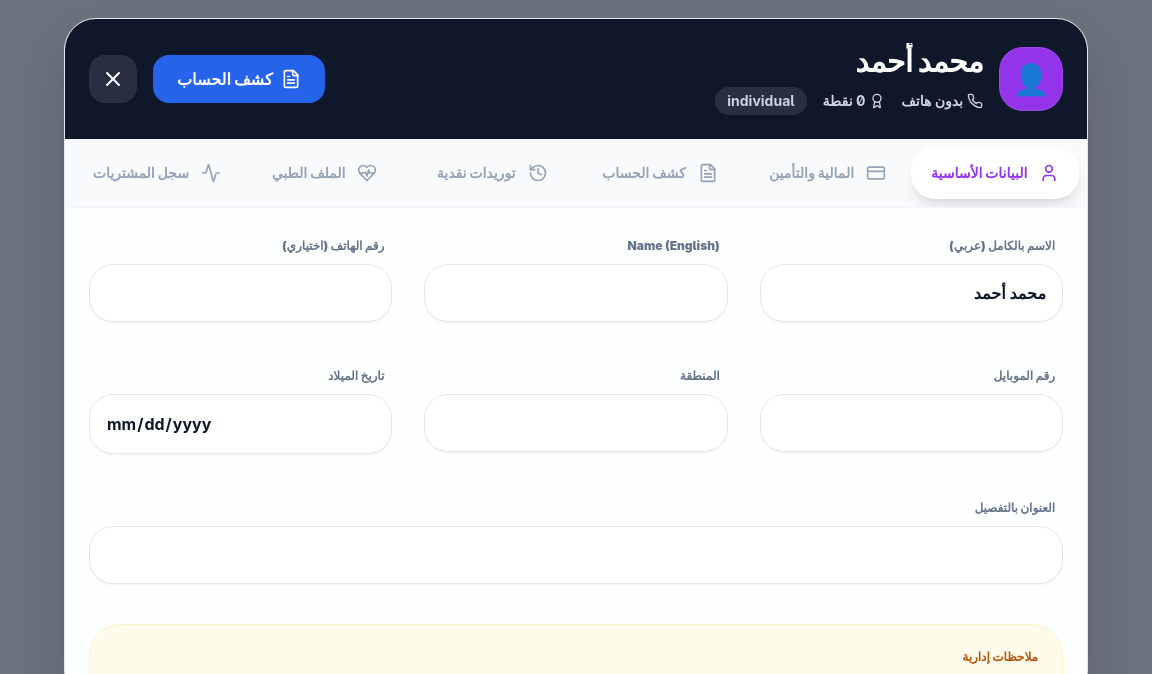
Test case: keeps payment history visible but hides payment creation without cash-flow permission
Expected: the field showing "محمد أحمد" is shown, [760,264,1063,322]
Click the button "توريدات نقدية" at x=492, y=173, box [408,147,576,199]
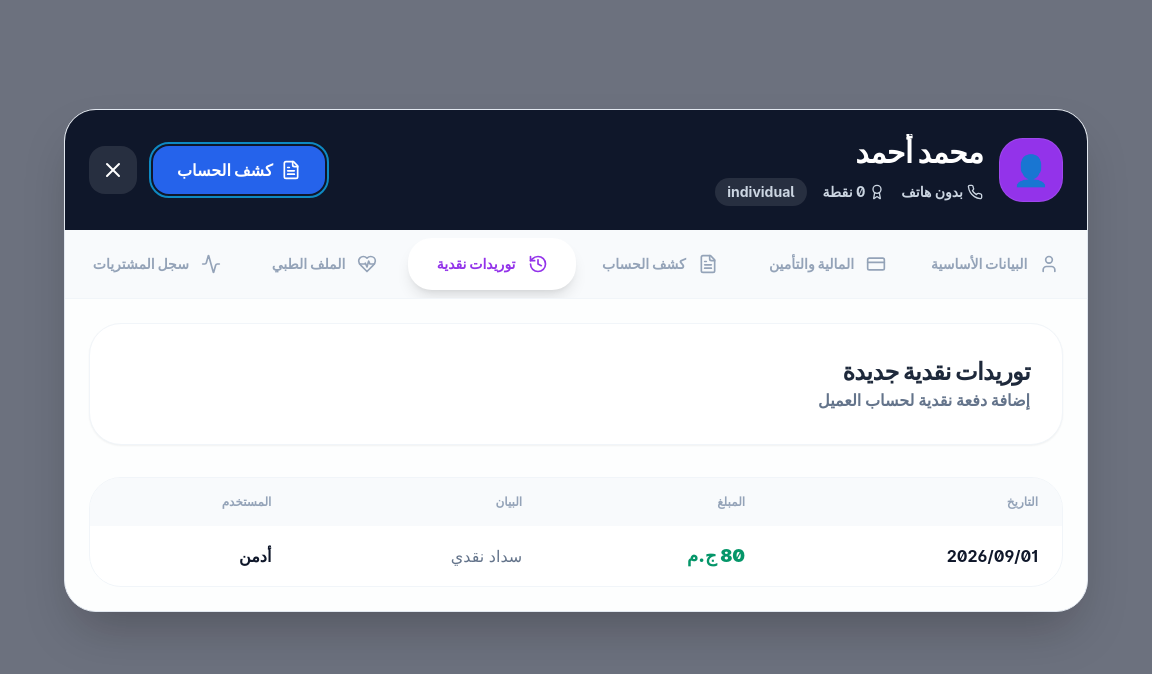
Expected: the text "سداد نقدي" is shown, [295,526,546,586]
